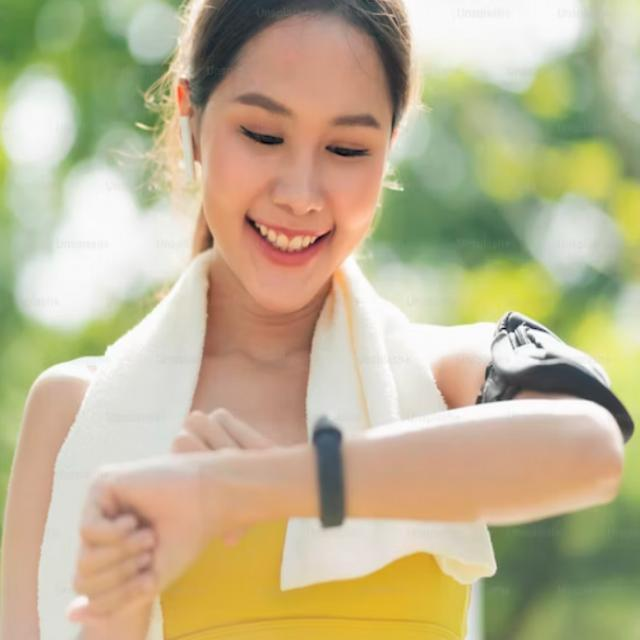Watch: (304, 410, 356, 535)
